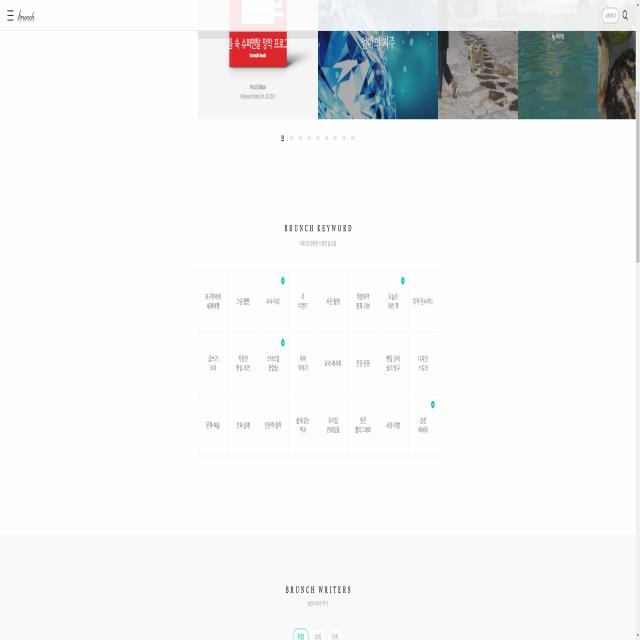search: (620, 8, 629, 26)
tab-bar: (276, 129, 356, 150), (3, 6, 39, 26)
